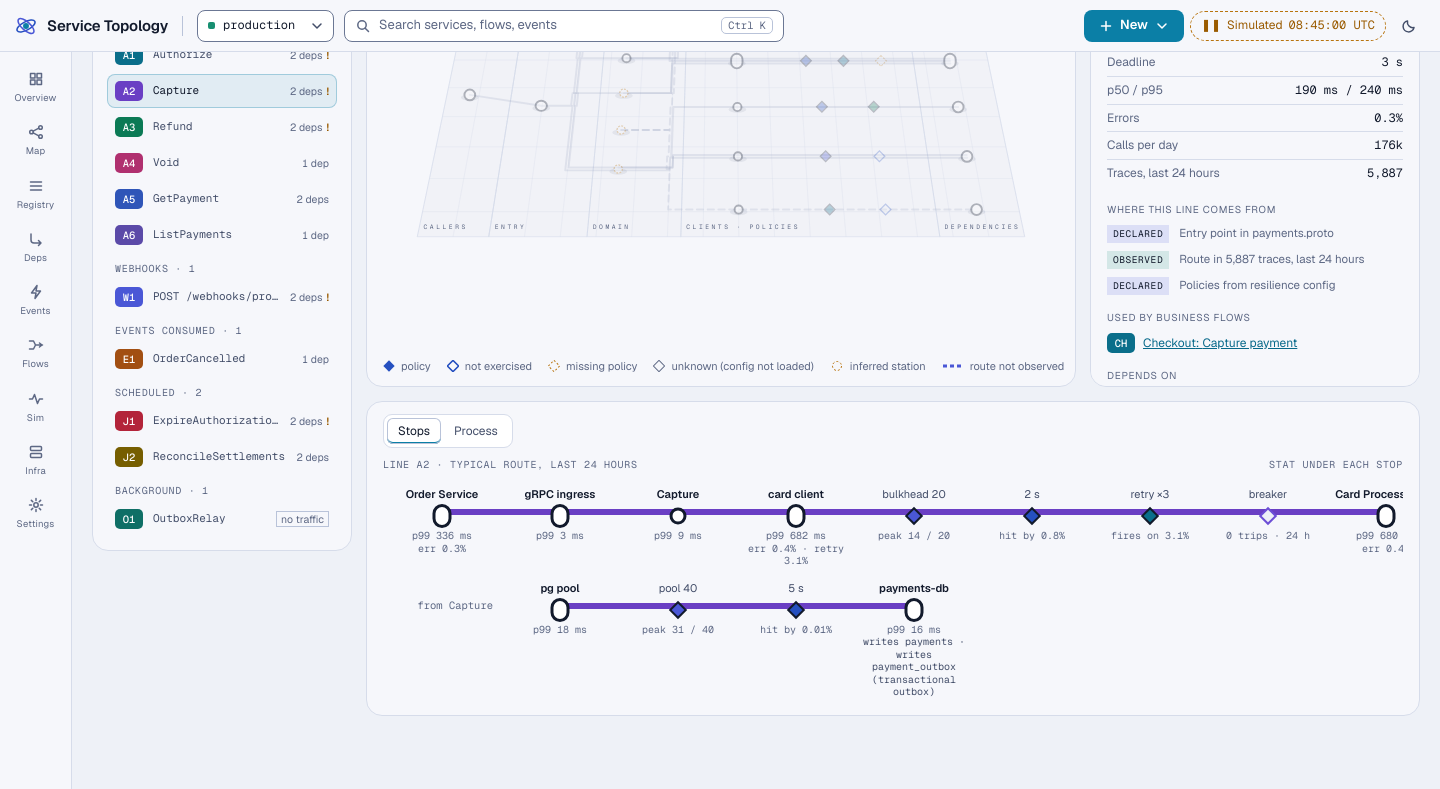
Test: process view (ADR-028) › switches a line’s strip to its process, kept in the URL, as an ordered list that reads in words
(page scrolled)
Click the button "Process".
click(476, 431)  # box x1=443 y1=418 x2=509 y2=444
(page scrolled)
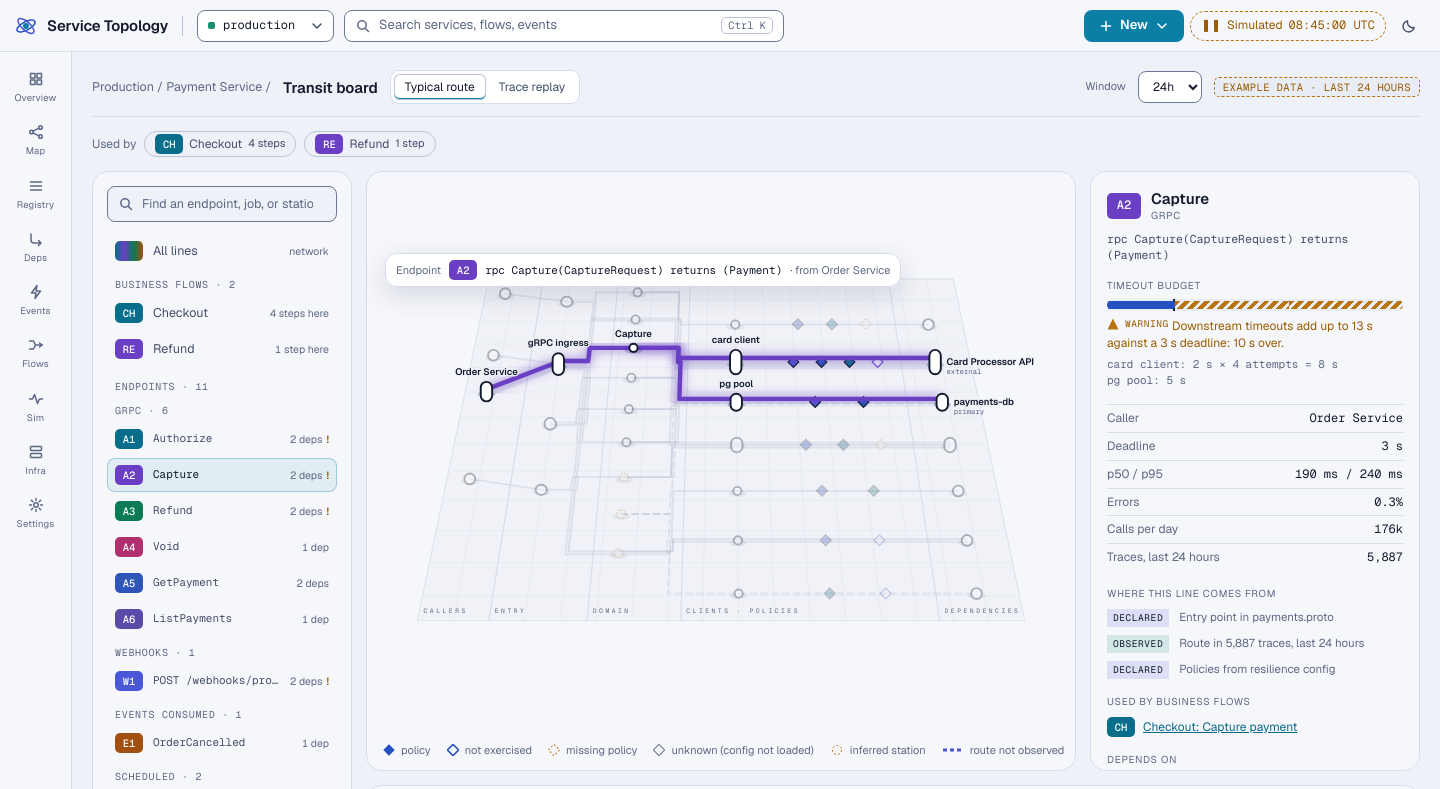
Now the element that starts with "Endpoint" shows "rpc Capture(CaptureRequest) returns (Payment)", box x1=485 y1=262 x2=782 y2=276
